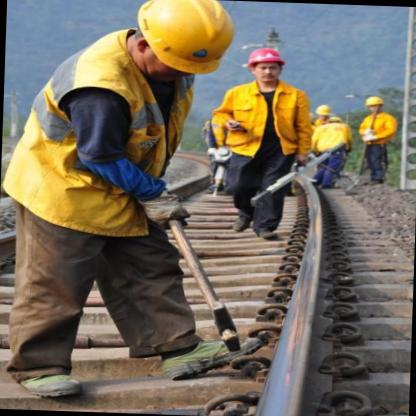bee: (122, 0, 241, 78), (243, 41, 290, 88), (364, 92, 386, 118), (315, 102, 333, 124)
